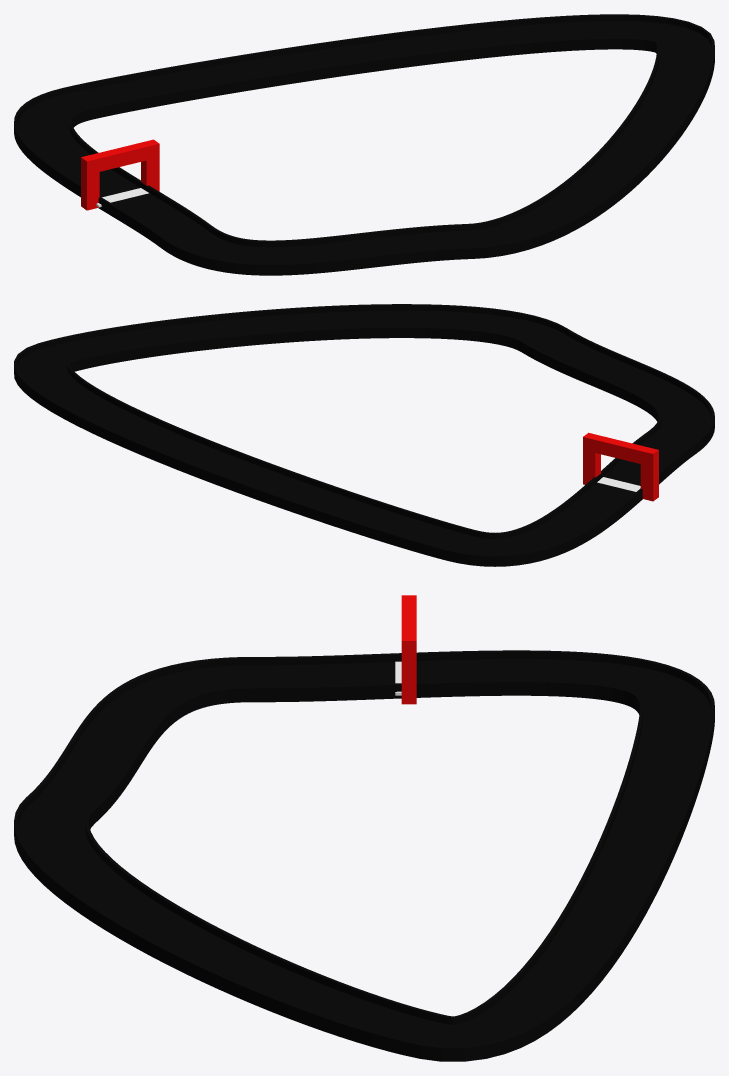
Rendered from Basic Race Track.fbx.
3 views of the same model, one above another, from view 1: azimuth 30°, elevation 25°; view 2: azimuth 150°, elevation 25°; view 3: azimuth 270°, elevation 25° (orthographic). The views are drawn at different scales.
Visible parts, largest first — view 1: Road, Outer Wall, Inner Wall, Box002; view 2: Road, Outer Wall, Inner Wall, Box002; view 3: Road, Outer Wall, Inner Wall, Box002.
Boxes of the visible parts, x1,y1,x2,y2 form: Road: [17, 21, 711, 263]; Outer Wall: [14, 14, 714, 275]; Inner Wall: [69, 37, 659, 247]; Box002: [81, 139, 159, 210]; Road: [17, 310, 711, 555]; Outer Wall: [14, 304, 714, 566]; Inner Wall: [67, 326, 661, 539]; Box002: [583, 432, 658, 501]; Road: [18, 659, 710, 1046]; Outer Wall: [14, 650, 714, 1061]; Inner Wall: [85, 680, 643, 1024]; Box002: [401, 595, 416, 704].
Bounding box in the file's own units: 907 × 67.45 × 668.
3 materials, 1 textured.
